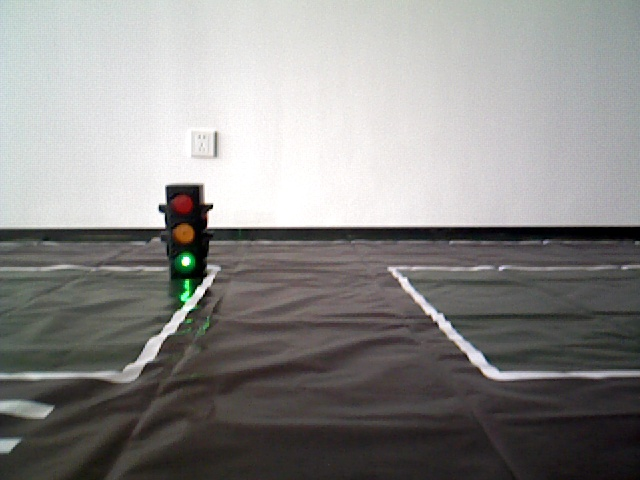green: (168, 184, 200, 270)
